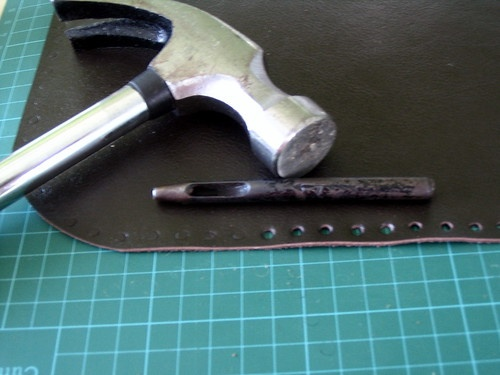hammer: (2, 1, 342, 206)
